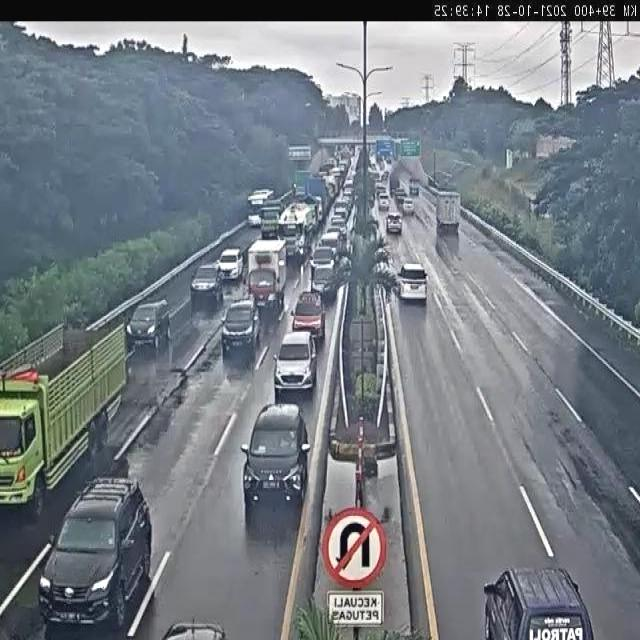Car: (39, 476, 152, 631), (242, 402, 312, 518), (272, 328, 320, 400), (220, 298, 261, 365), (125, 298, 172, 356), (290, 290, 326, 340), (190, 264, 223, 314), (397, 261, 429, 303), (310, 265, 337, 305), (217, 247, 244, 282), (322, 228, 343, 250), (332, 202, 349, 226), (386, 212, 403, 234), (342, 188, 354, 213), (394, 186, 406, 205), (402, 198, 414, 215), (378, 193, 389, 210)
Truck: (0, 316, 131, 498), (246, 239, 289, 314), (278, 201, 316, 259), (436, 191, 460, 232)
